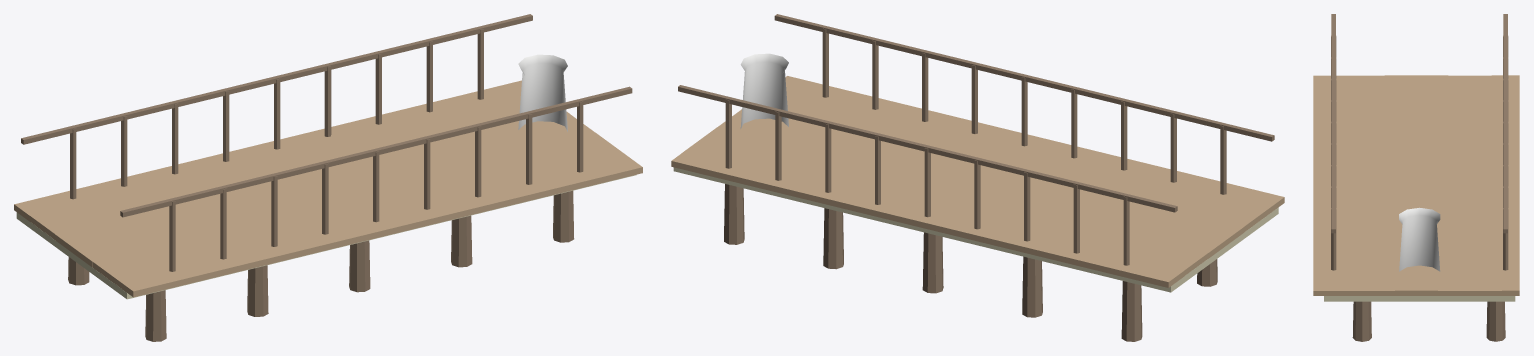
The model's file is martial-arts-dojo-and-fight-stages-beach-pier-set-759888c1__18079.glb.
The picture shows the model from 3 angles, left to right: view 1: azimuth 30°, elevation 25°; view 2: azimuth 150°, elevation 25°; view 3: azimuth 270°, elevation 25°; orthographic projection. The views are drawn at different scales.
Visible parts, largest first — view 1: beach-pier-set; view 2: beach-pier-set; view 3: beach-pier-set.
Boxes of the visible parts, <box> form: beach-pier-set: <box>14,14,642,341</box>; beach-pier-set: <box>671,14,1284,341</box>; beach-pier-set: <box>1313,14,1519,341</box>.
Size of the model in its own units: 8 by 2.26 by 3.24.
